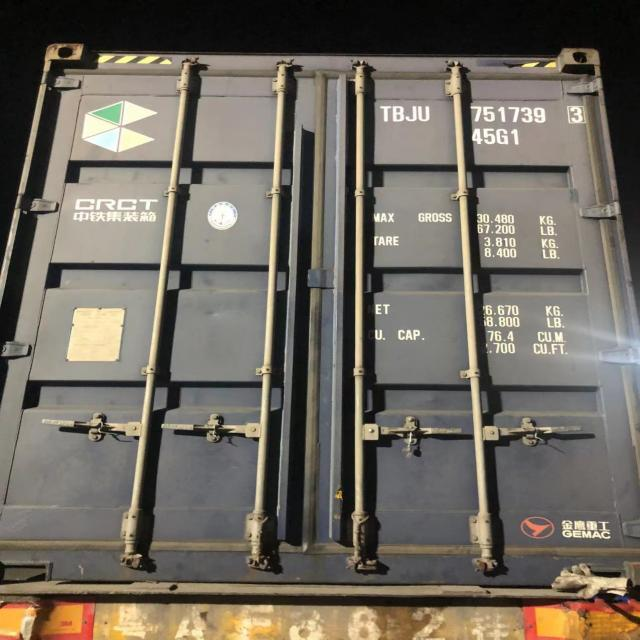ISO: (473, 126, 522, 148)
container_number: (374, 102, 584, 128)
